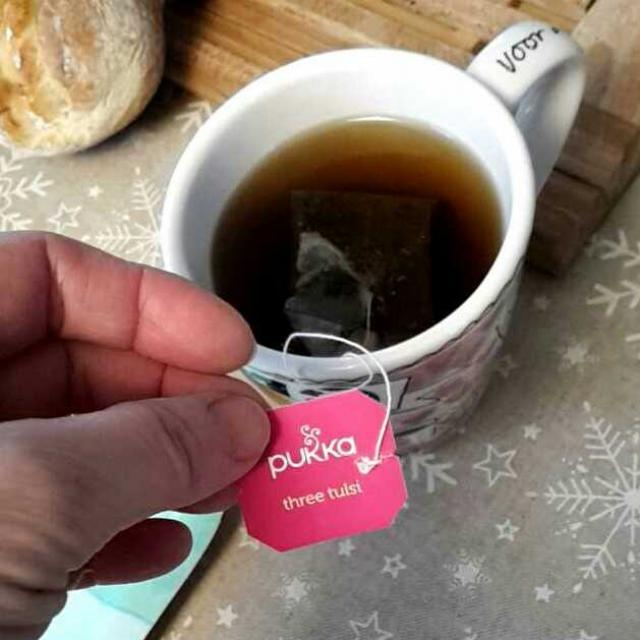tea: (216, 132, 488, 346)
